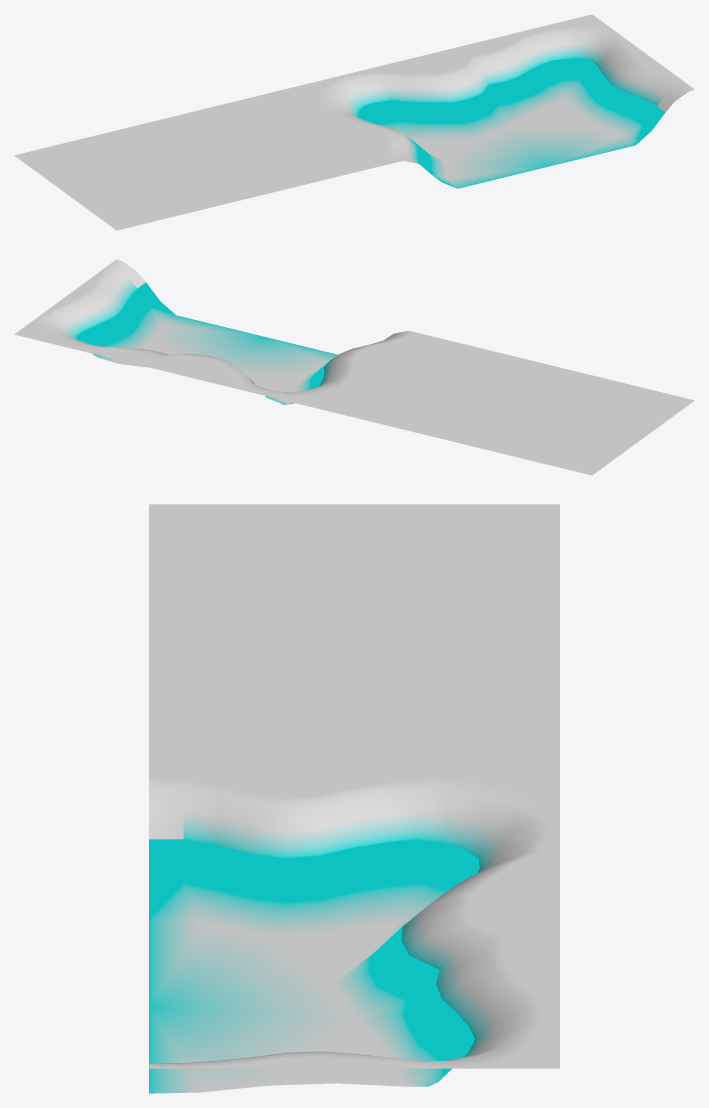
The model's file is Side-forest-water_start_01.glb.
3 renders of one model, top to bottom at view 1: azimuth 30°, elevation 25°; view 2: azimuth 150°, elevation 25°; view 3: azimuth 270°, elevation 25°, orthographic. The views are drawn at different scales.
Visible parts, largest first — view 1: Side-forest-water_start_01; view 2: Side-forest-water_start_01; view 3: Side-forest-water_start_01.
Part boxes in pixels (box(x1,y1,x2,y2)): Side-forest-water_start_01: box(14, 14, 694, 230); Side-forest-water_start_01: box(14, 259, 694, 475); Side-forest-water_start_01: box(149, 504, 559, 1093).
Bounding box in the file's own units: 58.5 × 4 × 18.
